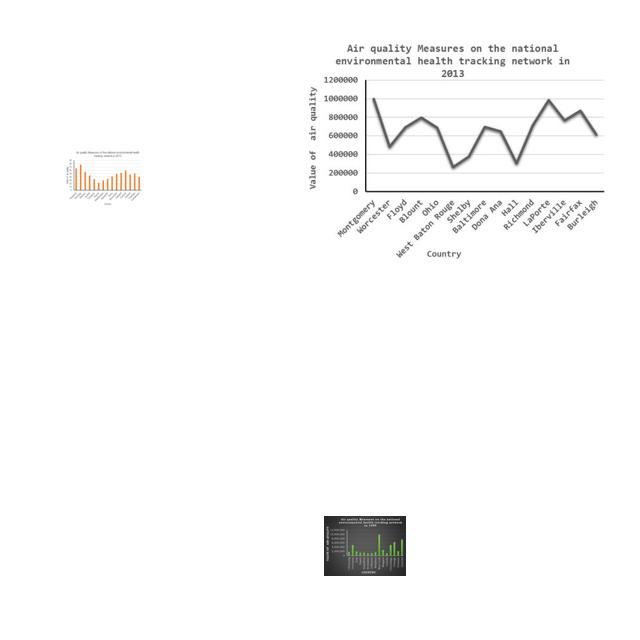Graph: (299, 39, 609, 263), (324, 516, 406, 576), (64, 150, 143, 207)
